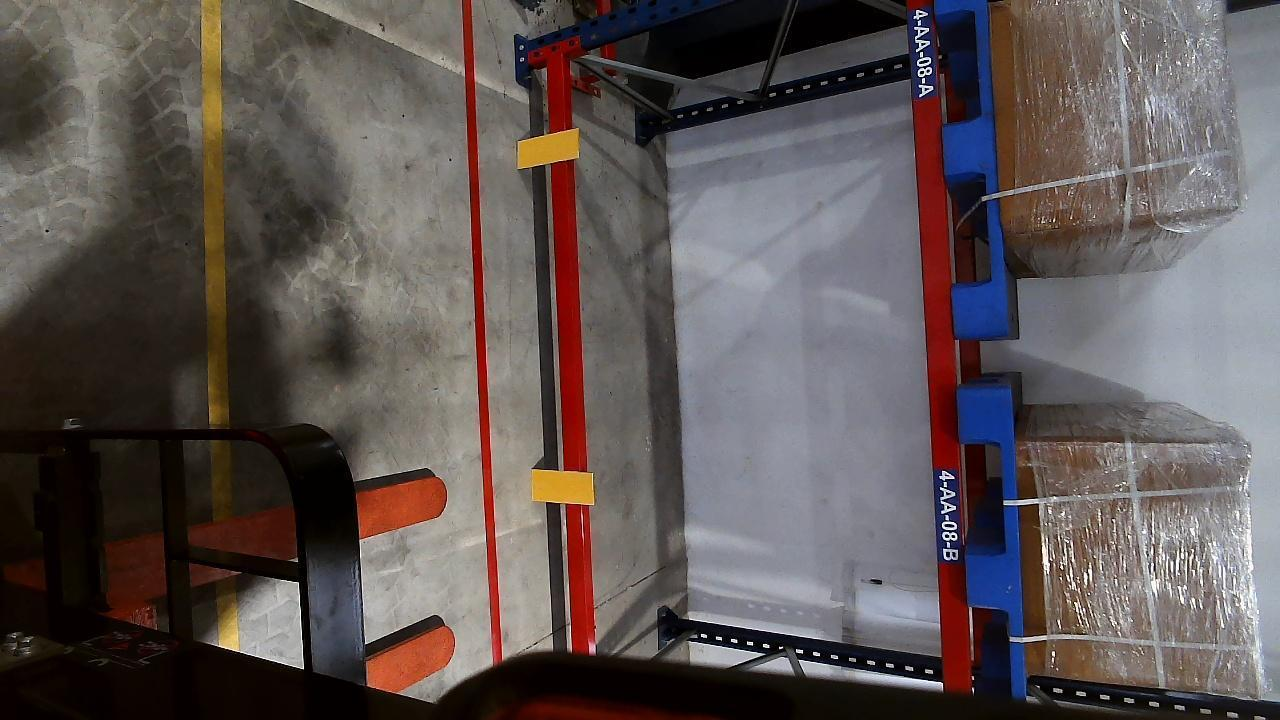red_line: (465, 0, 505, 665)
yellow_line: (200, 0, 232, 425)
